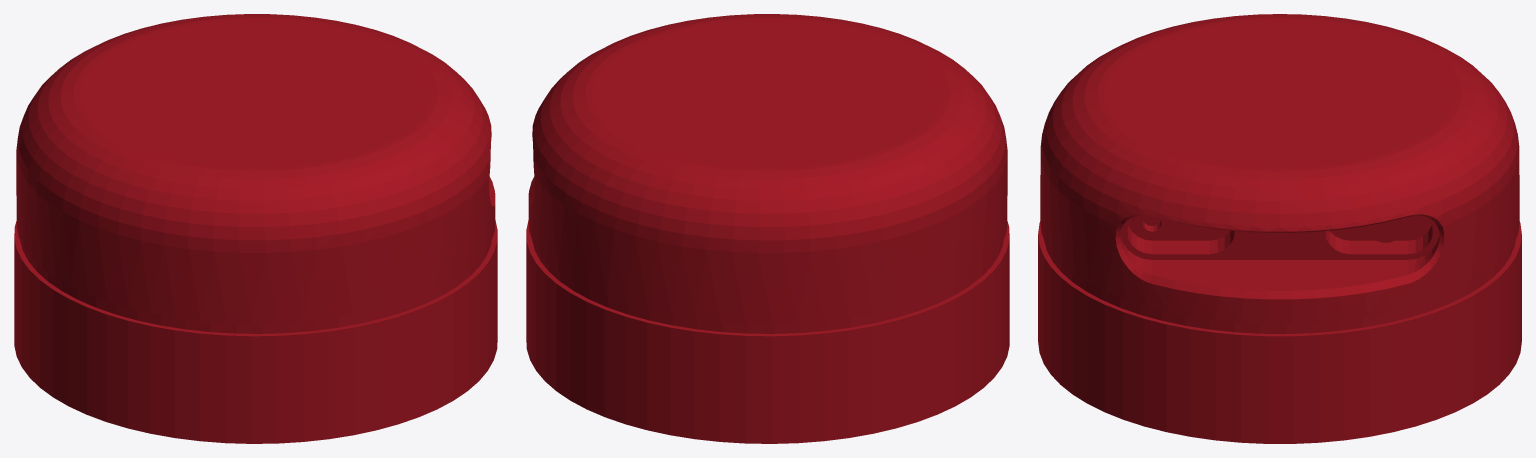
File: rplidar2.dae
3 views of the same model, side by side, from view 1: azimuth 30°, elevation 25°; view 2: azimuth 150°, elevation 25°; view 3: azimuth 270°, elevation 25° (orthographic).
Visible parts, largest first — view 1: Body1; view 2: Body1; view 3: Body1.
Boxes of the visible parts, x1=… form: Body1: x1=14, y1=14, x2=497, y2=443; Body1: x1=526, y1=14, x2=1009, y2=443; Body1: x1=1038, y1=14, x2=1521, y2=443.
Bounding box in the file's own units: 7.56 × 7.57 × 4.28.
